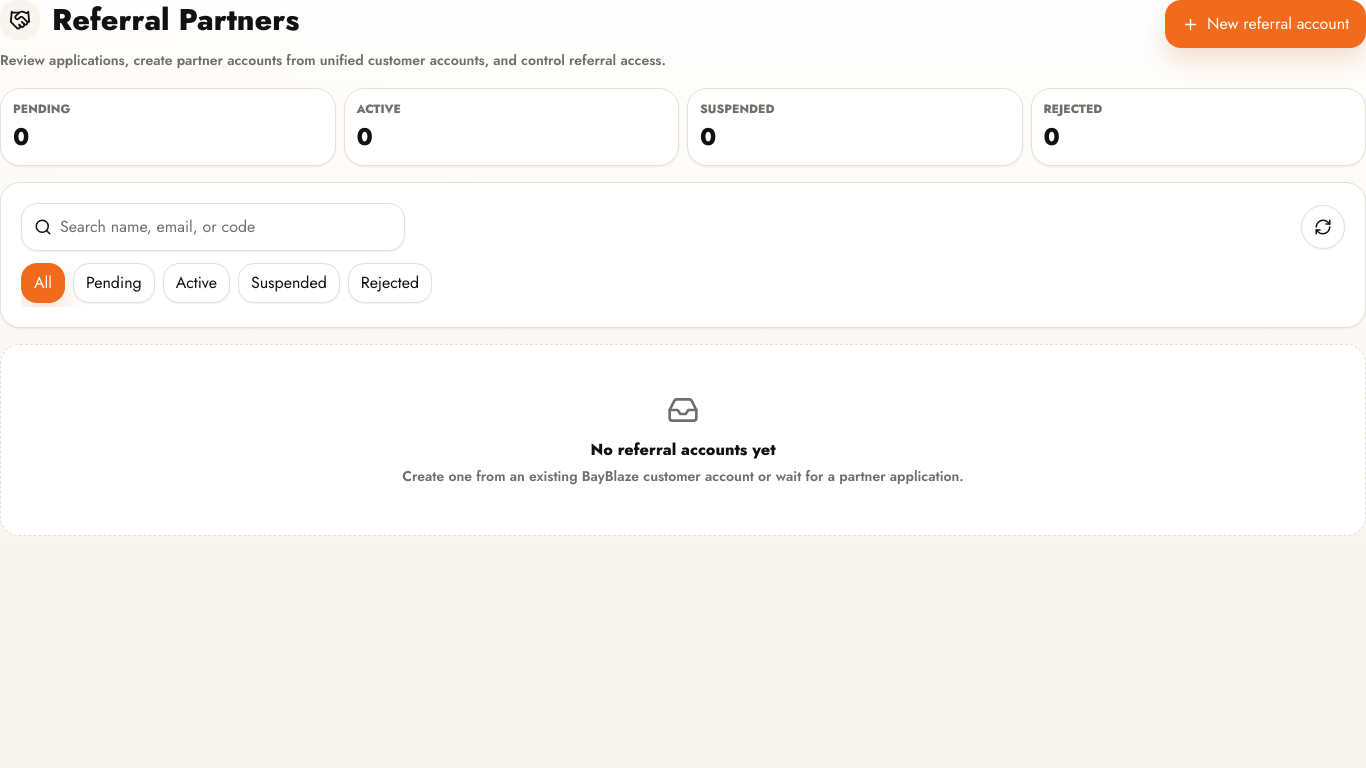
Scenario: referral partner administration › creates a referral account only after final confirmation
Click the button "New referral account" at (1266, 24), box [1165,0,1365,48]
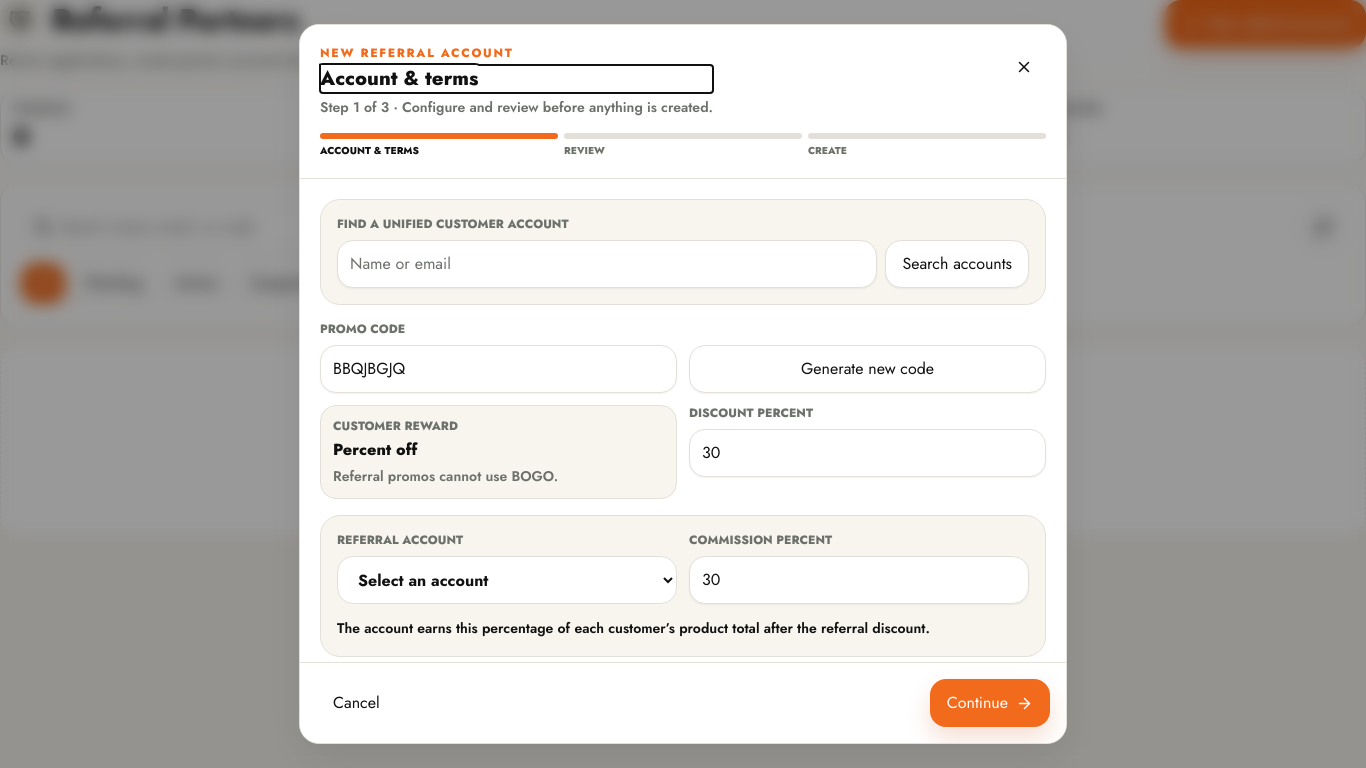
Now the dialog "Account & terms" is shown, box [299,24,1067,744]
Select "Taylor Partner (taylor@example.com)" in the dropdown labelled "Referral account" at (507, 580), box [337,556,677,604]
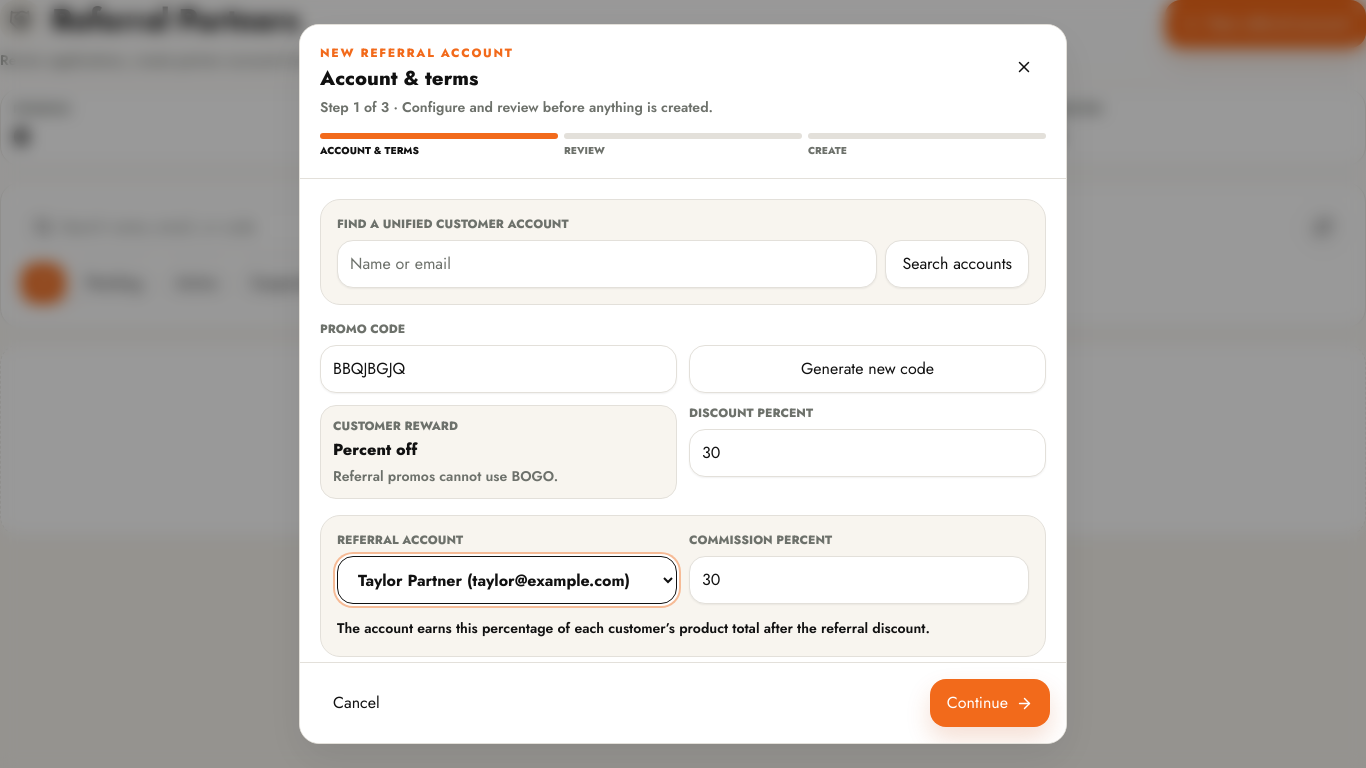
Replace the text in the field labelled "Promo code" with "TAYLOR20" at (498, 369), box [333,347,664,391]
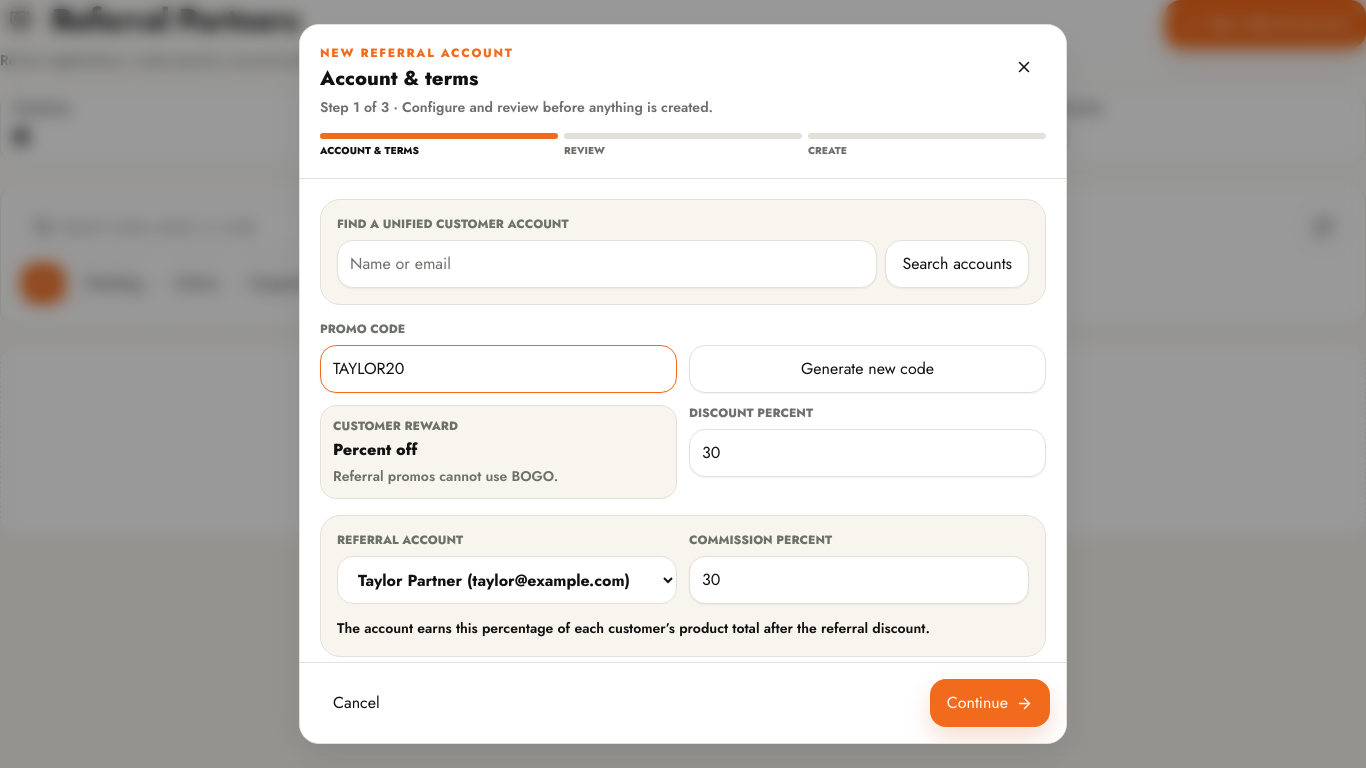
Click the button "Continue" at (990, 703), box [930,679,1050,727]
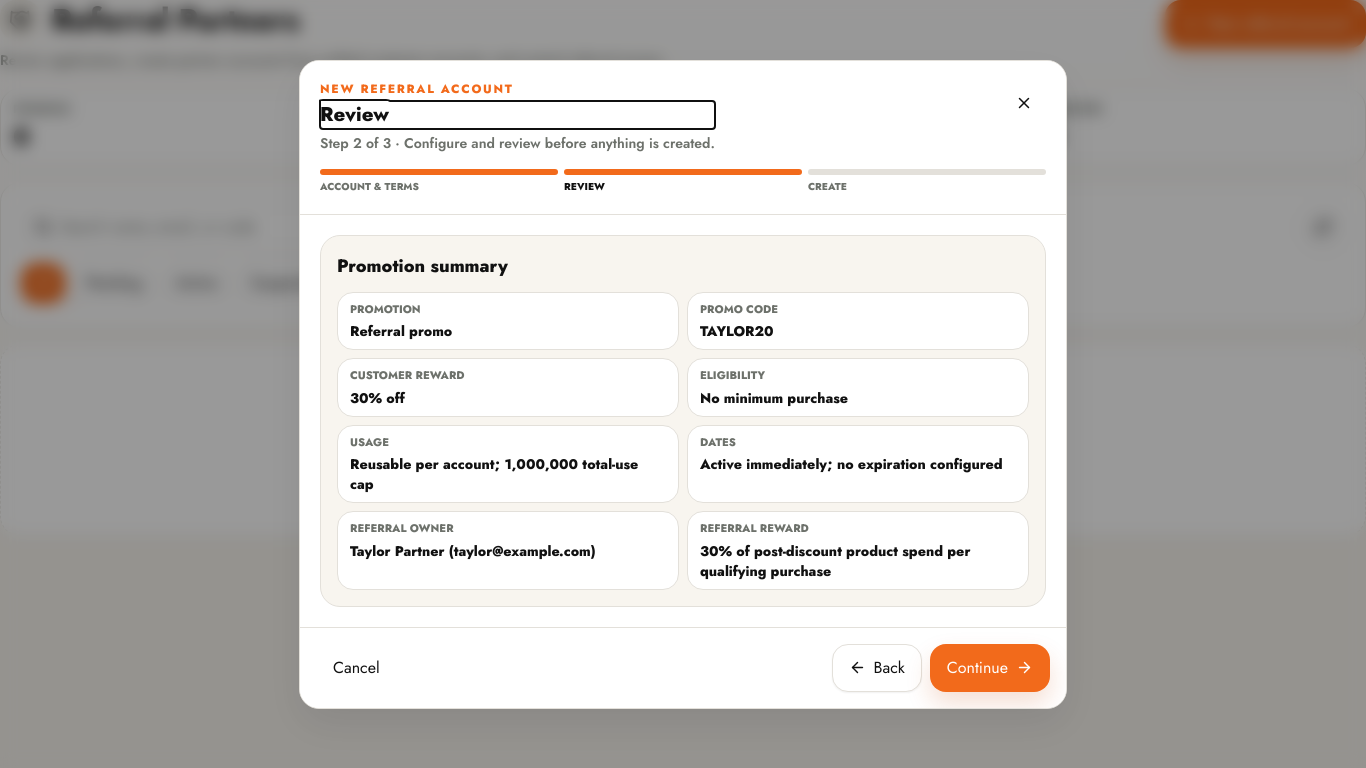
Now the heading "Review" is shown, box [320,100,389,128]
Click the button "Continue" at (990, 668), box [930,644,1050,692]
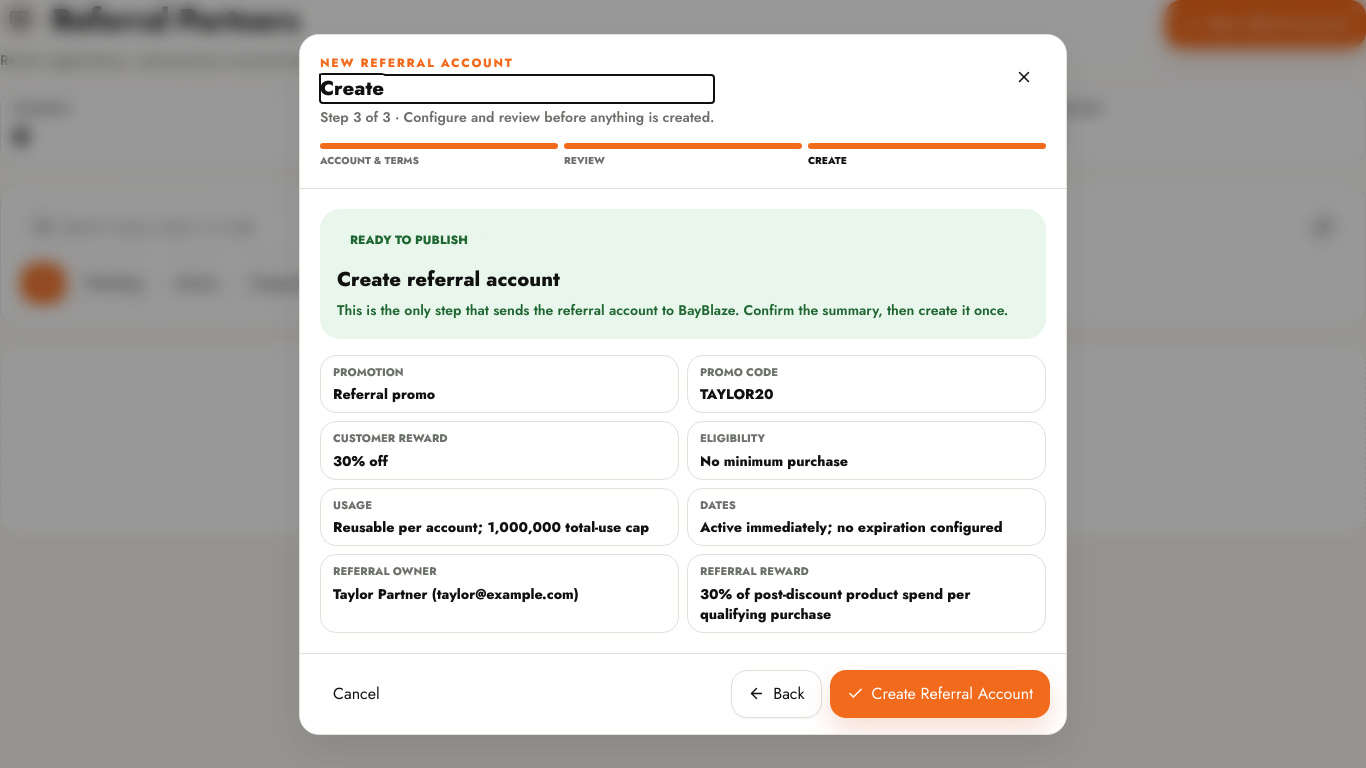
Now the heading "Create" is shown, box [320,74,384,102]
Click the button "Create Referral Account" at (940, 694), box [830,670,1050,718]
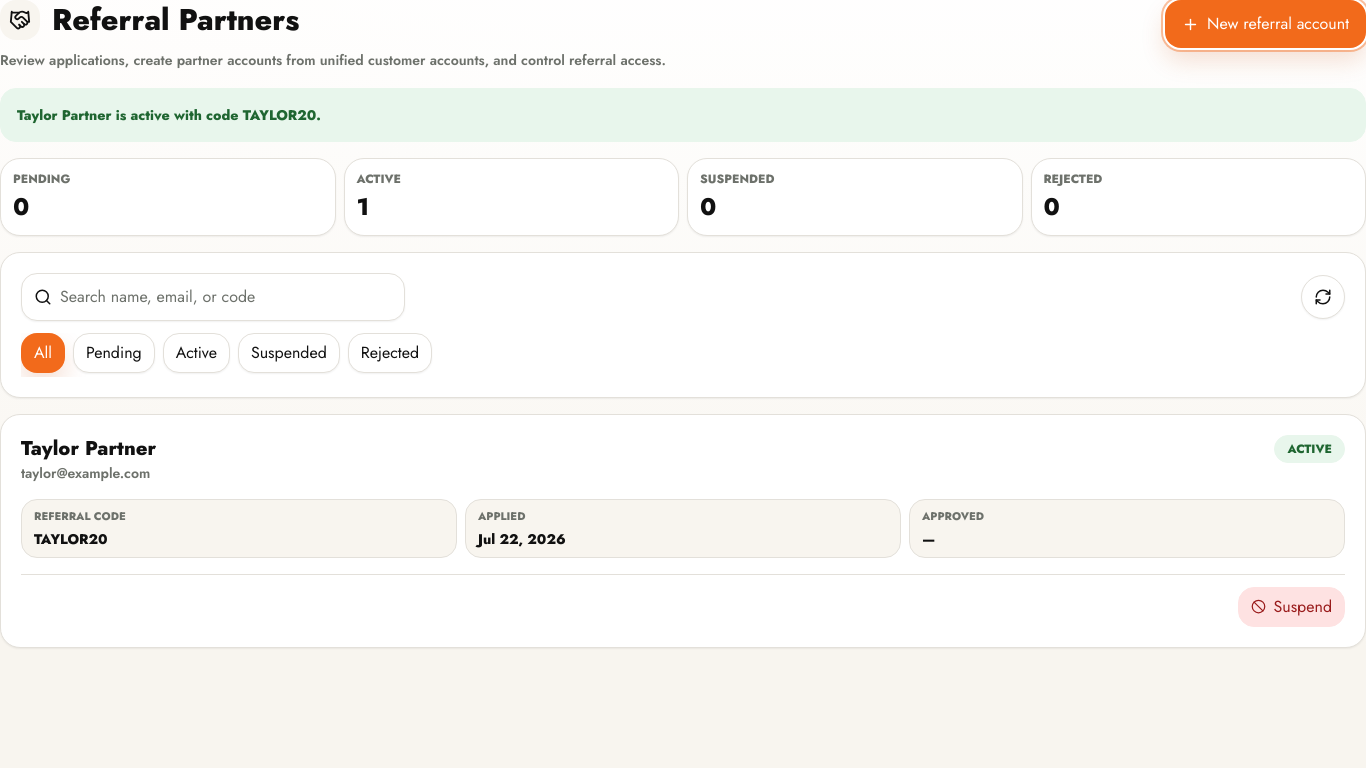
Now the text "Taylor Partner is active with code TAYLOR20." is shown, box [0,88,1365,142]
Now the dialog is gone
